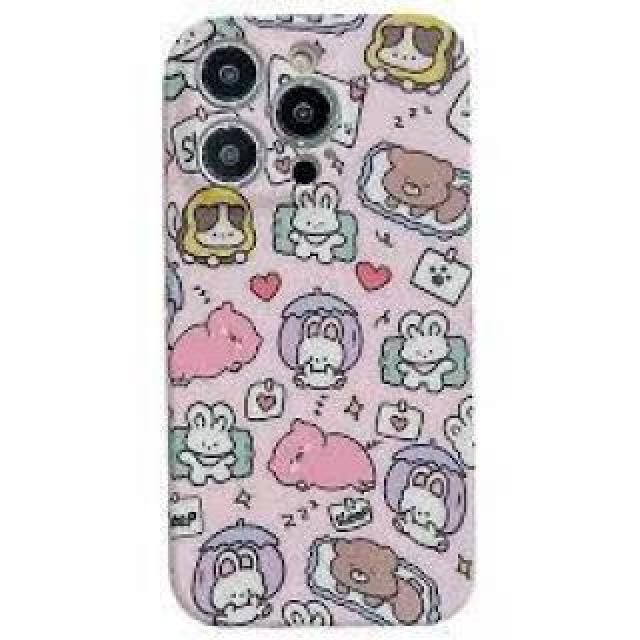smart phone: (130, 0, 527, 590)
